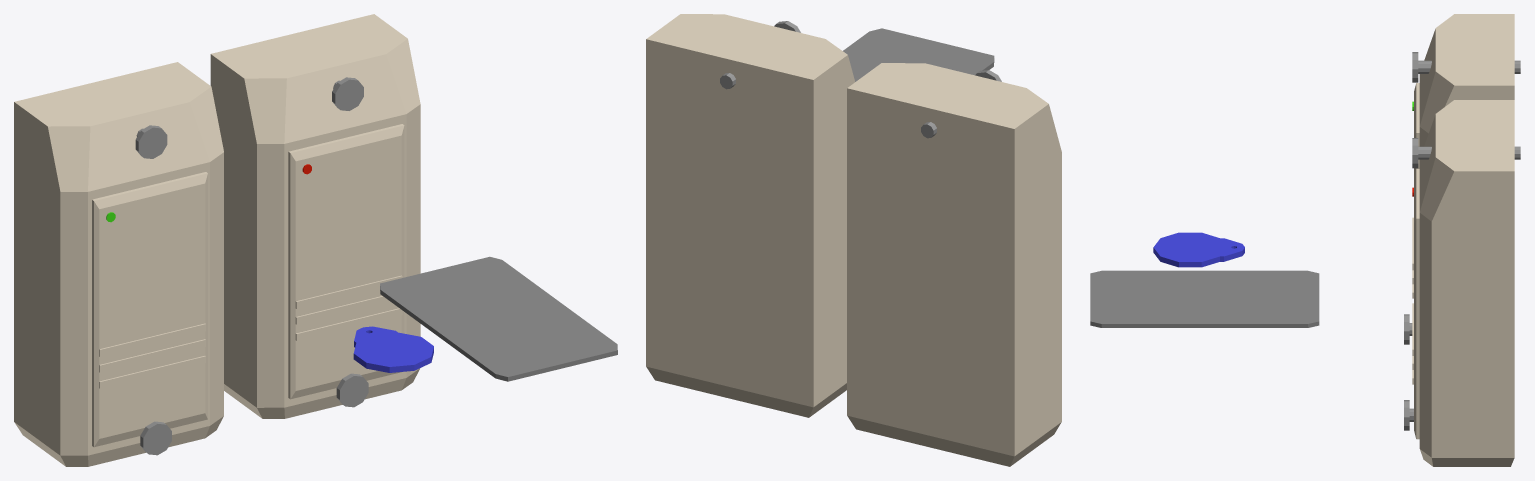
The model's file is electric_lock_low_poly_free.glb.
3 renders of one model, left to right at view 1: azimuth 30°, elevation 25°; view 2: azimuth 150°, elevation 25°; view 3: azimuth 270°, elevation 25°, orthographic. The views are drawn at different scales.
Visible parts, largest first — view 1: Cube.002, Cube, Cube.001, Cylinder.003, Cylinder.005, Cylinder.001, Cylinder.002, Cylinder.004; view 2: Cube.002, Cube, Cube.001; view 3: Cube, Cube.001, Cube.002, Cylinder.003, Cylinder.005, Cylinder.001.
Part boxes in pixels (<box>): Cube.002: <box>14,62,223,466</box>; Cube: <box>210,14,420,418</box>; Cube.001: <box>380,256,617,381</box>; Cylinder.003: <box>353,326,433,372</box>; Cylinder.005: <box>135,125,167,158</box>; Cylinder.001: <box>332,77,363,110</box>; Cylinder.002: <box>336,373,368,407</box>; Cylinder.004: <box>140,421,171,455</box>; Cube.002: <box>847,63,1061,466</box>; Cube: <box>646,14,854,417</box>; Cube.001: <box>843,28,994,81</box>; Cube: <box>1412,100,1514,466</box>; Cube.001: <box>1090,270,1319,327</box>; Cube.002: <box>1412,14,1514,298</box>; Cylinder.003: <box>1153,232,1244,267</box>; Cylinder.005: <box>1412,52,1520,82</box>; Cylinder.001: <box>1412,138,1520,168</box>.
Bounding box in the file's own units: 4.78 × 4.09 × 5.35.
